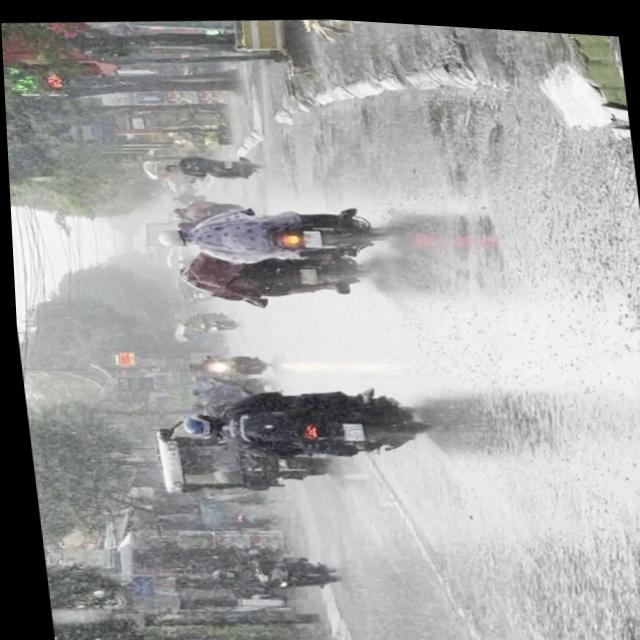helmet: (175, 411, 215, 437), (152, 226, 188, 247)
licenseplate: (168, 368, 431, 470), (147, 188, 397, 273), (154, 237, 380, 313)
nohelmet: (337, 418, 359, 437), (300, 226, 320, 243), (295, 263, 313, 280)
